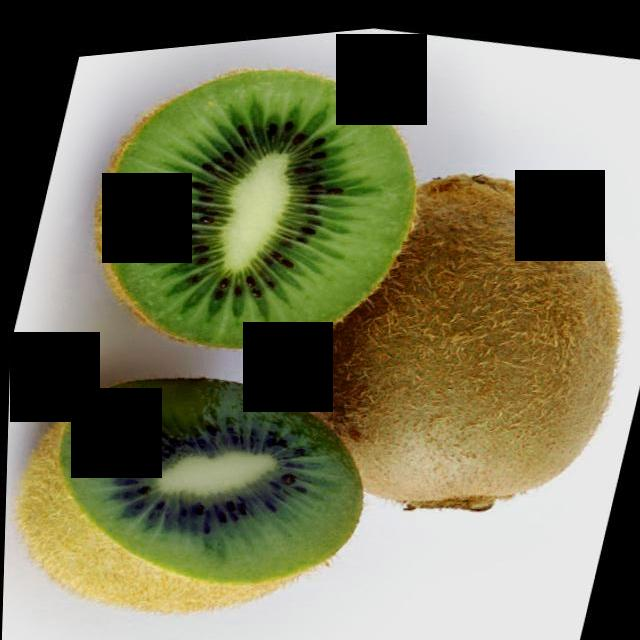kiwi: (256, 131, 640, 556)
